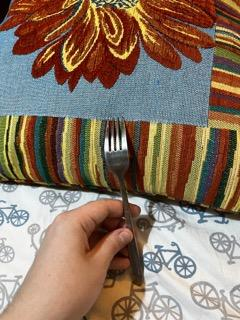fork: (104, 114, 146, 288)
